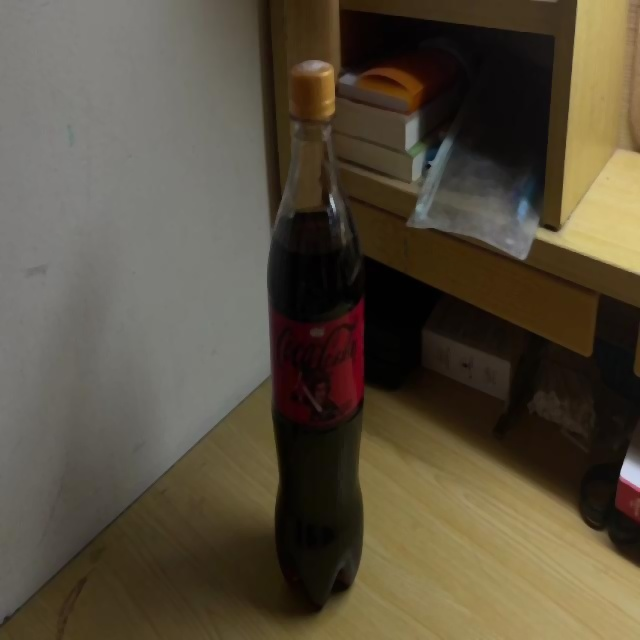Coca-Cola: (264, 58, 365, 615)
